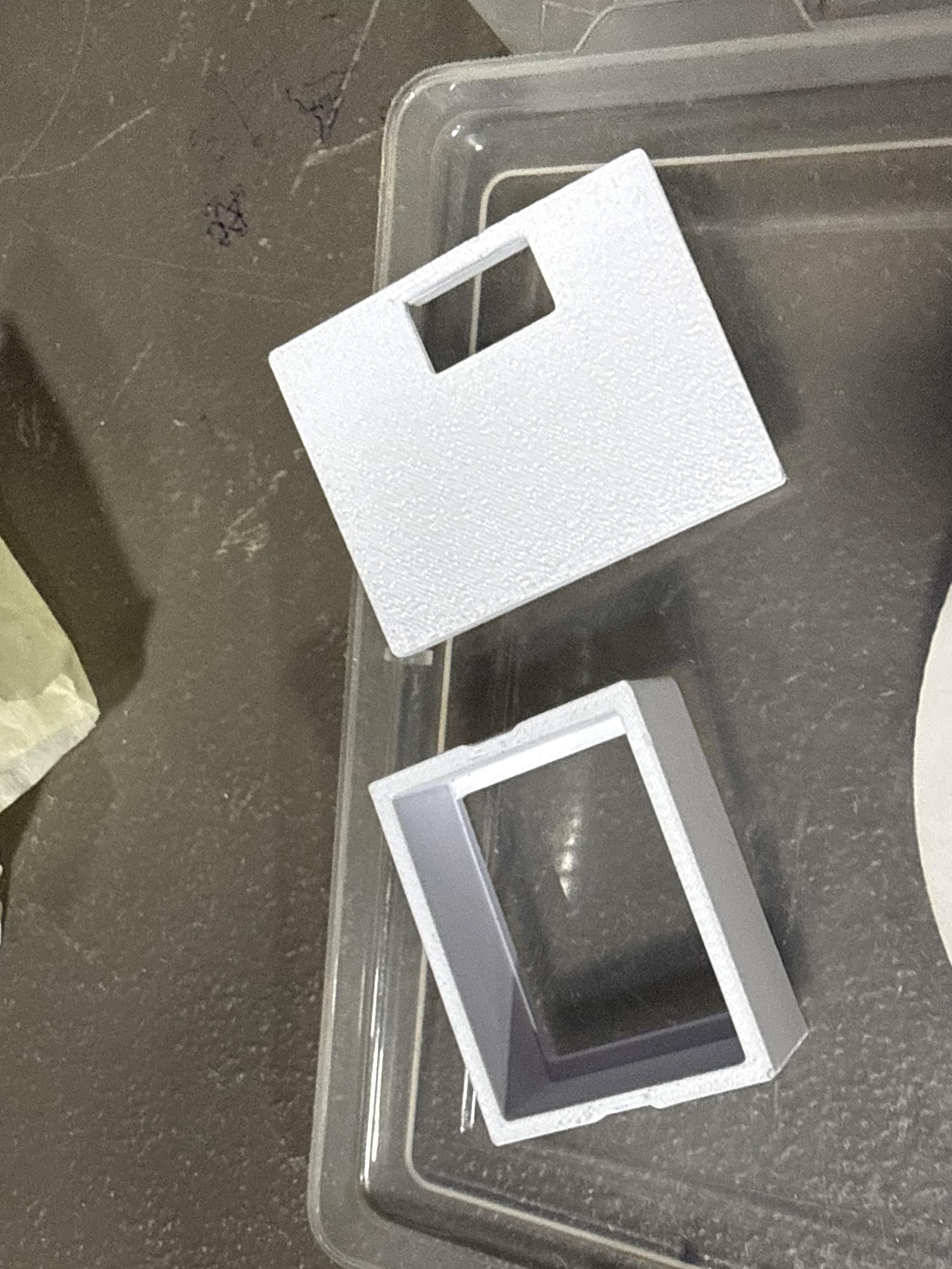enclosure: (268, 148, 788, 659), (368, 675, 811, 1146)
